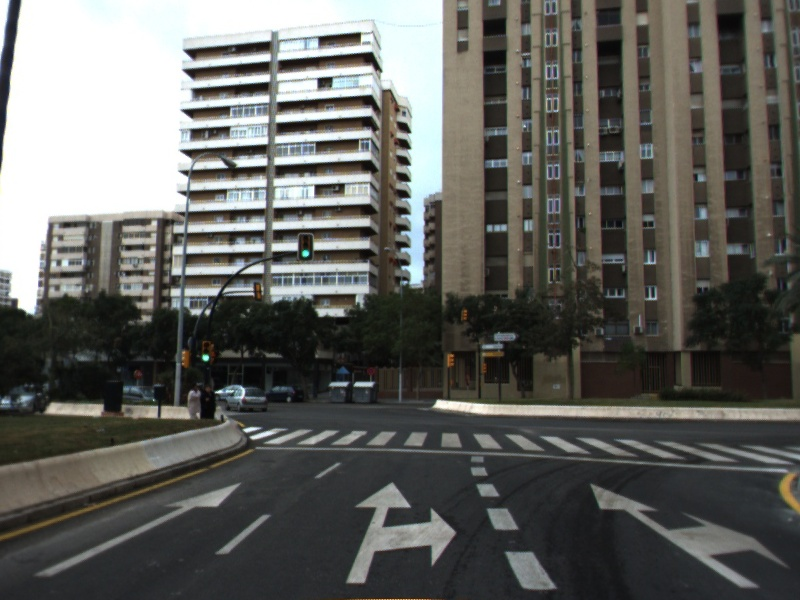STRAIGHT: (33, 479, 247, 579)
STRAIGHT_RIGHT: (588, 481, 793, 590), (343, 479, 459, 585)
